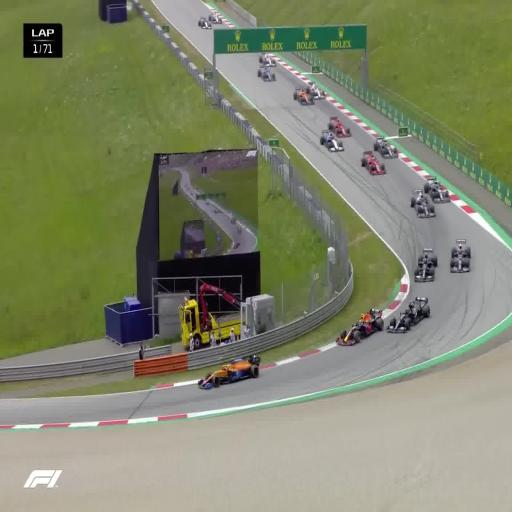f1_car: (198, 354, 260, 389), (336, 308, 384, 345), (386, 297, 430, 332), (414, 248, 438, 282), (423, 176, 450, 202), (410, 189, 435, 217), (450, 239, 470, 273), (361, 151, 386, 175), (320, 129, 344, 152), (327, 116, 351, 137), (374, 137, 398, 156), (293, 87, 314, 105), (307, 81, 325, 99), (257, 65, 275, 81), (259, 53, 276, 66), (198, 16, 211, 28), (208, 13, 222, 24)
